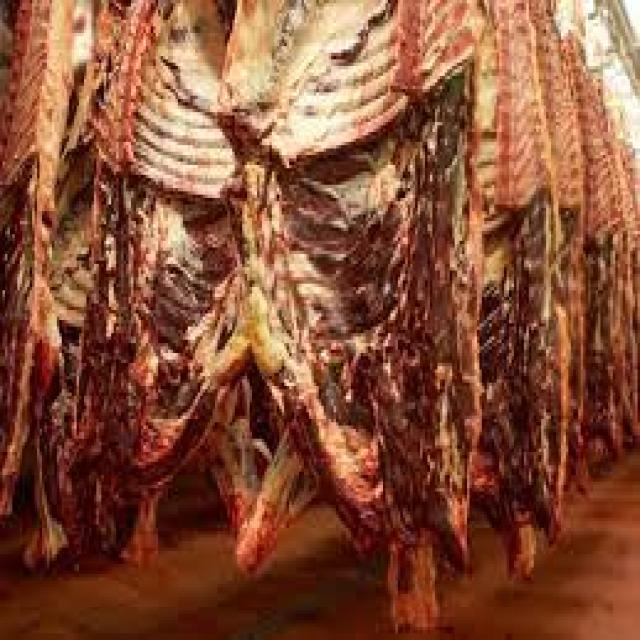Organik: (2, 3, 640, 639)
